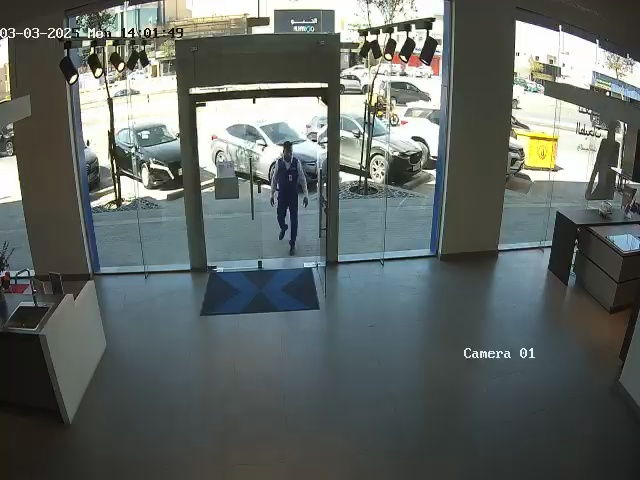employee: (269, 140, 309, 255)
